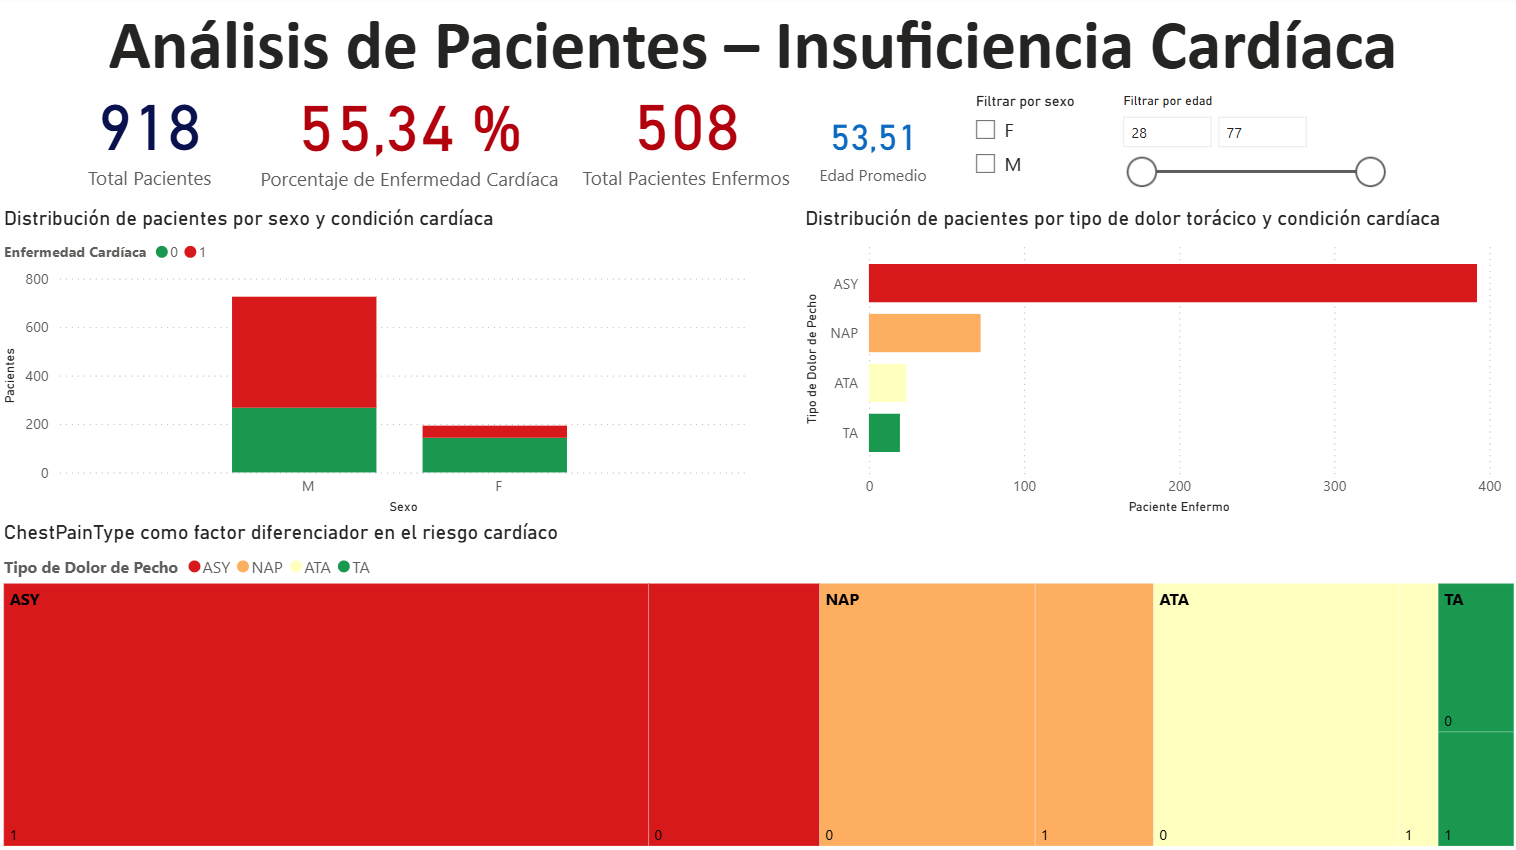

The dashboard page shown, as its layout file describes it:
{"tool":"powerbi","page":{"name":"Análisis de Pacientes","canvas":[1280,720],"ordinal":0},"visuals":[{"type":"actionButton","box":[0,0,100,40],"z":0},{"type":"card","fields":{"Values":["Base_Datos_Pablo_Bautista.TotalPacientes"]},"box":[50,64,154.7,101.2],"z":1000},{"type":"card","fields":{"Values":["Base_Datos_Pablo_Bautista.HeartDisease"]},"box":[483.7,64,190.7,101.2],"z":2000},{"type":"card","fields":{"Values":["Base_Datos_Pablo_Bautista.PorcentajeEnfermedad"]},"box":[204.7,62.8,282.6,104.7],"z":3000},{"type":"columnChart","title":"Distribución de pacientes por sexo y condición cardíaca","fields":{"Category":["Base_Datos_Pablo_Bautista.Sex"],"Series":["Base_Datos_Pablo_Bautista.HeartDisease"],"Y":["Base_Datos_Pablo_Bautista.TotalPacientes"]},"box":[0,176.5,634.8,264.1],"z":4000},{"type":"barChart","title":"Distribución de pacientes por tipo de dolor torácico y condición cardíaca","fields":{"Category":["Base_Datos_Pablo_Bautista.ChestPainType"],"Y":["Base_Datos_Pablo_Bautista.HeartDisease"]},"box":[673.9,176.5,595.7,264.1],"z":5000},{"type":"textbox","box":[0,0,1269.8,75.6],"z":6000},{"type":"card","fields":{"Values":["Base_Datos_Pablo_Bautista.Age"]},"box":[684.9,89.5,103.5,73.3],"z":7000},{"type":"treemap","title":"ChestPainType como factor diferenciador en el riesgo cardíaco","fields":{"Values":["Base_Datos_Pablo_Bautista.TotalPacientes"],"Group":["Base_Datos_Pablo_Bautista.ChestPainType"],"Details":["Base_Datos_Pablo_Bautista.HeartDisease"]},"box":[0,440.6,1280.2,279.5],"z":8000},{"type":"slicer","fields":{"Values":["Base_Datos_Pablo_Bautista.Sex"]},"box":[809.3,76.7,162.8,88.4],"z":9000},{"type":"slicer","fields":{"Values":["Base_Datos_Pablo_Bautista.Age"]},"box":[933.7,76.7,241.9,90.7],"z":10000}]}

Visuals, with their boxes in screenshot pixels (x1, y1, x2, y2), scaled from the page's 1280x720 canvas onto the 1516x850 screenshot:
actionButton: bbox=[0, 0, 118, 47]
card - Base_Datos_Pablo_Bautista.TotalPacientes: bbox=[59, 76, 242, 195]
card - Base_Datos_Pablo_Bautista.HeartDisease: bbox=[573, 76, 799, 195]
card - Base_Datos_Pablo_Bautista.PorcentajeEnfermedad: bbox=[242, 74, 577, 198]
"Distribución de pacientes por sexo y condición cardíaca" columnChart: bbox=[0, 208, 752, 520]
"Distribución de pacientes por tipo de dolor torácico y condición cardíaca" barChart: bbox=[798, 208, 1504, 520]
textbox: bbox=[0, 0, 1504, 89]
card - Base_Datos_Pablo_Bautista.Age: bbox=[811, 106, 934, 192]
"ChestPainType como factor diferenciador en el riesgo cardíaco" treemap: bbox=[0, 520, 1515, 849]
slicer - Base_Datos_Pablo_Bautista.Sex: bbox=[959, 91, 1151, 195]
slicer - Base_Datos_Pablo_Bautista.Age: bbox=[1106, 91, 1392, 198]
